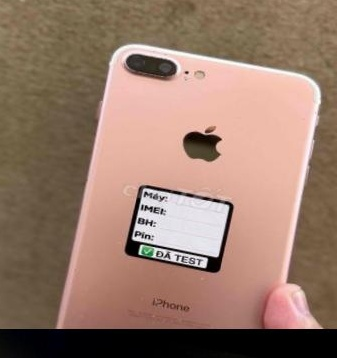scratch: (48, 245, 281, 329), (117, 42, 199, 86)
